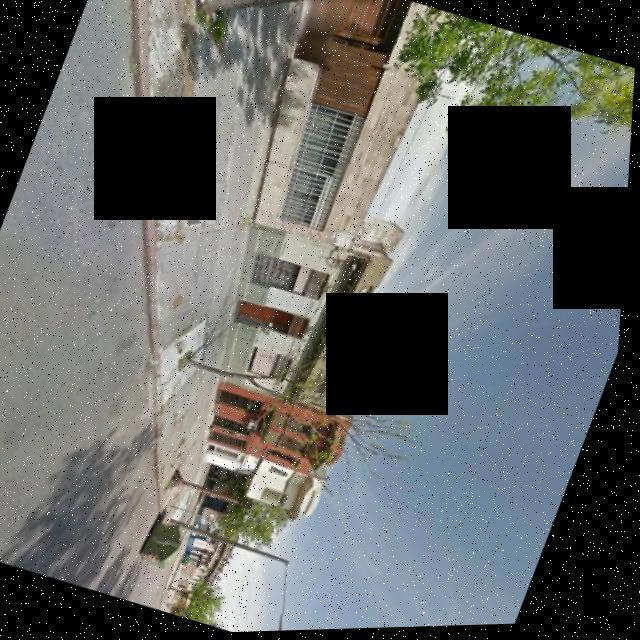bin: (130, 510, 202, 585)
